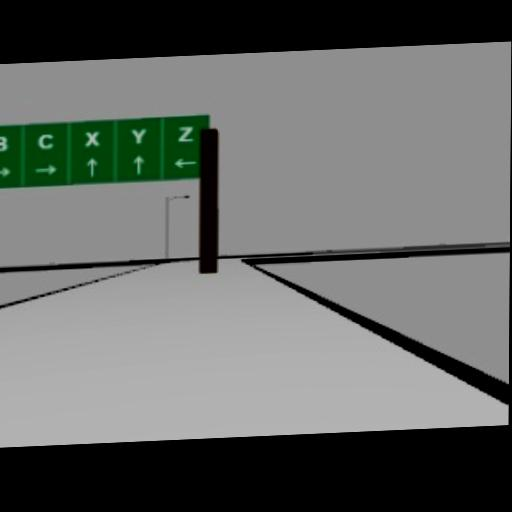B: (0, 135, 7, 151)
C: (36, 133, 54, 149)
Left: (173, 157, 198, 169)
Right: (32, 163, 57, 177), (0, 165, 11, 178)
Straight: (85, 156, 96, 178), (133, 154, 145, 174)
X: (84, 129, 100, 147)
Y: (129, 126, 147, 143)
Z: (177, 124, 193, 141)
